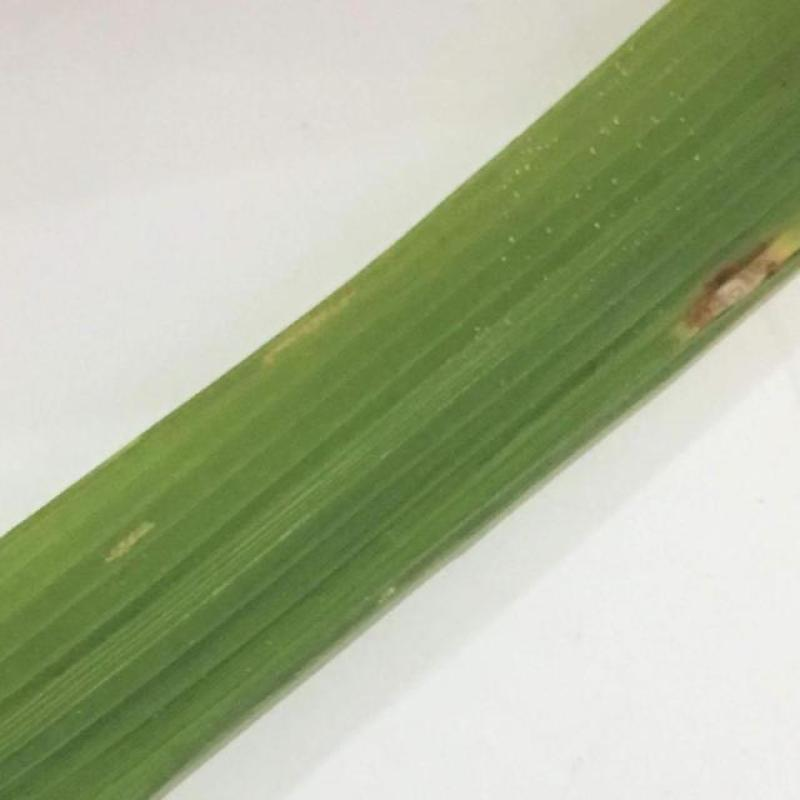Leaf_Blast: (672, 220, 786, 342)
